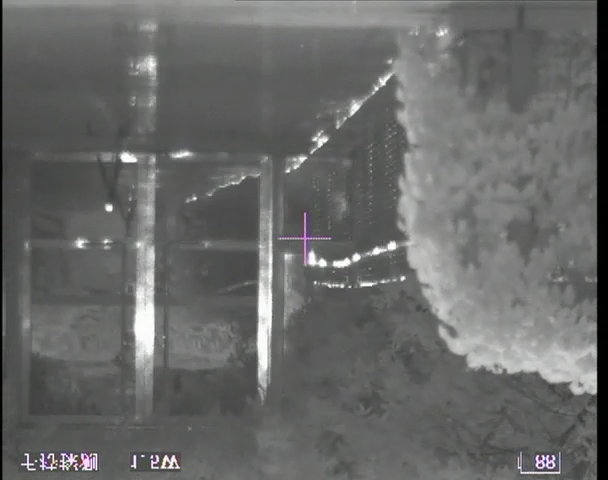my: (104, 202, 114, 213)
